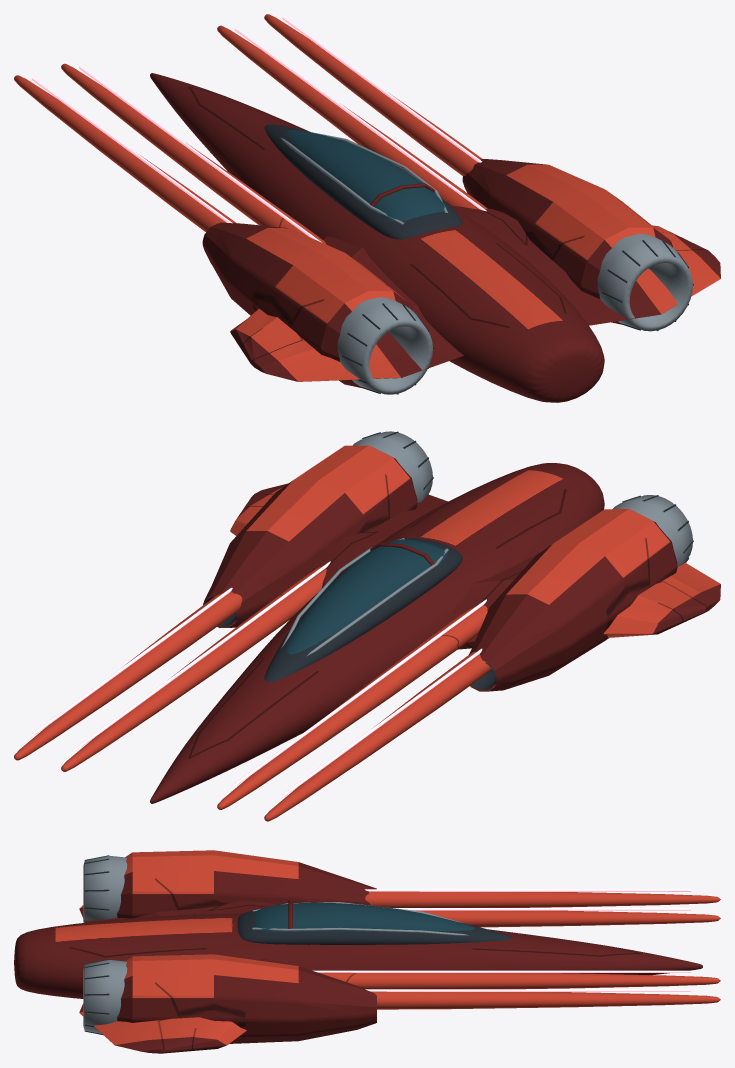
3 renders of one model, top to bottom at view 1: azimuth 30°, elevation 25°; view 2: azimuth 150°, elevation 25°; view 3: azimuth 270°, elevation 25°, orthographic. The views are drawn at different scales.
Visible parts, largest first — view 1: RailbreakerV2; view 2: RailbreakerV2; view 3: RailbreakerV2.
Part boxes in pixels (box(x1,y1,x2,y2)): RailbreakerV2: box(14, 14, 720, 402); RailbreakerV2: box(14, 431, 720, 821); RailbreakerV2: box(14, 850, 720, 1053).
Bounding box in the file's own units: 2.8 × 0.6313 × 4.6.
Materials: 6 (2 with a texture image).
